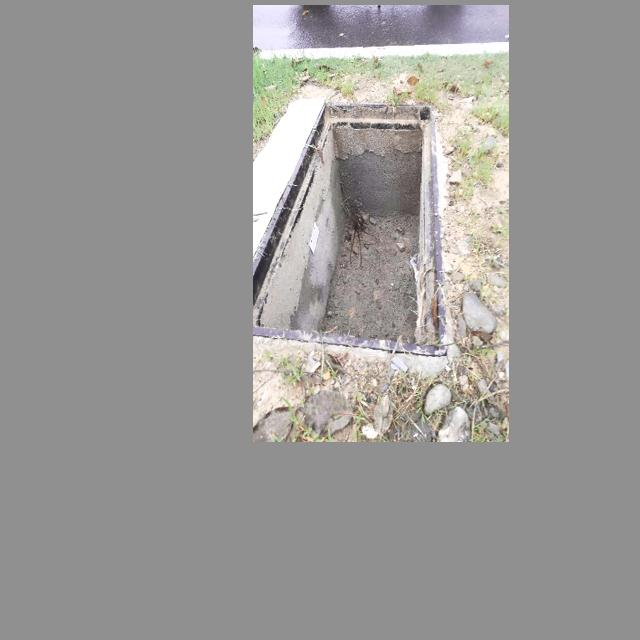lose: (253, 93, 443, 345)
